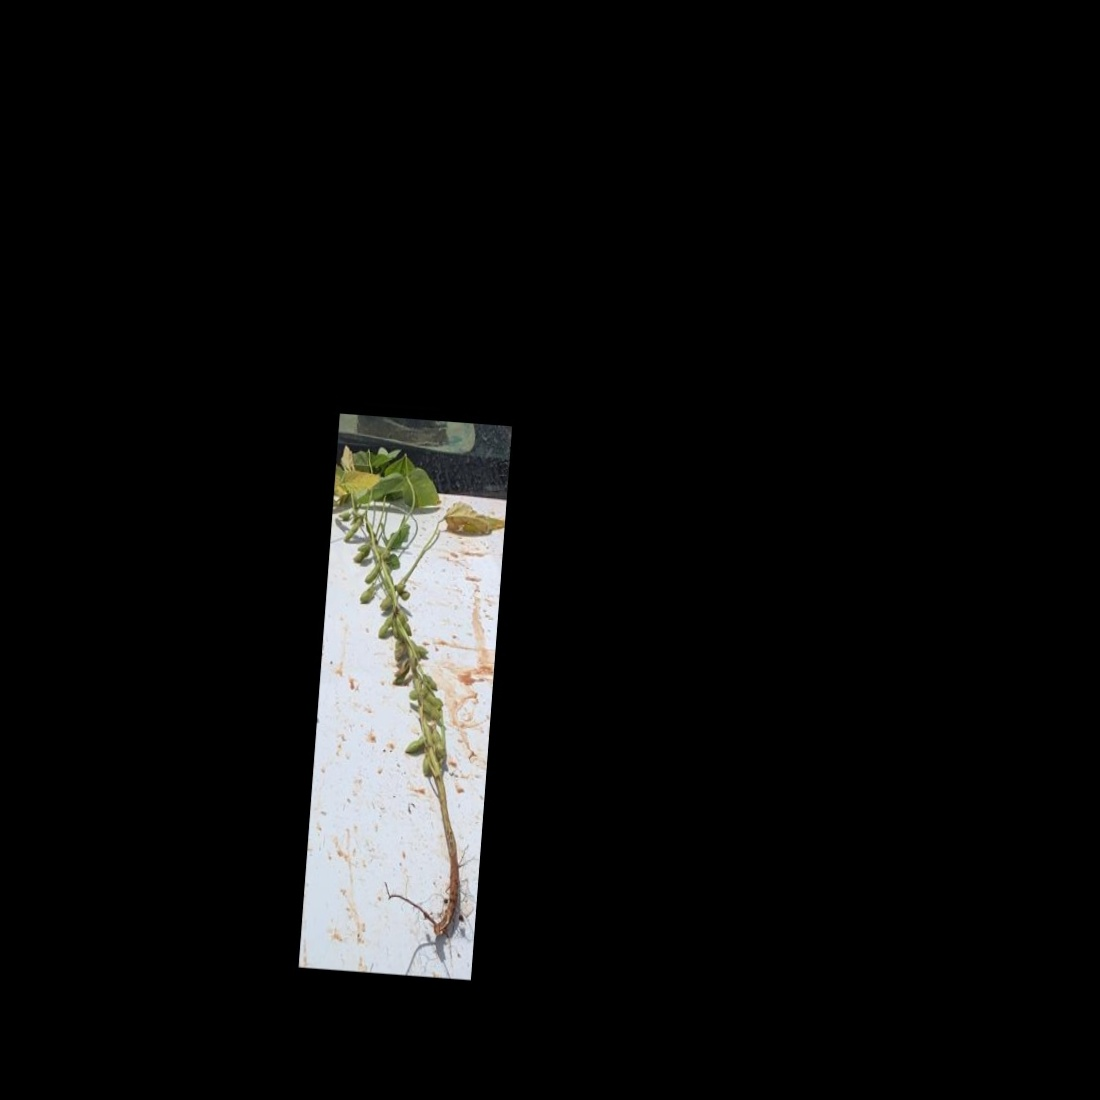pod: (402, 726, 432, 759), (363, 551, 385, 588), (356, 576, 379, 609), (375, 609, 395, 645), (341, 516, 364, 546), (428, 726, 447, 760)
soy: (304, 435, 504, 930)
